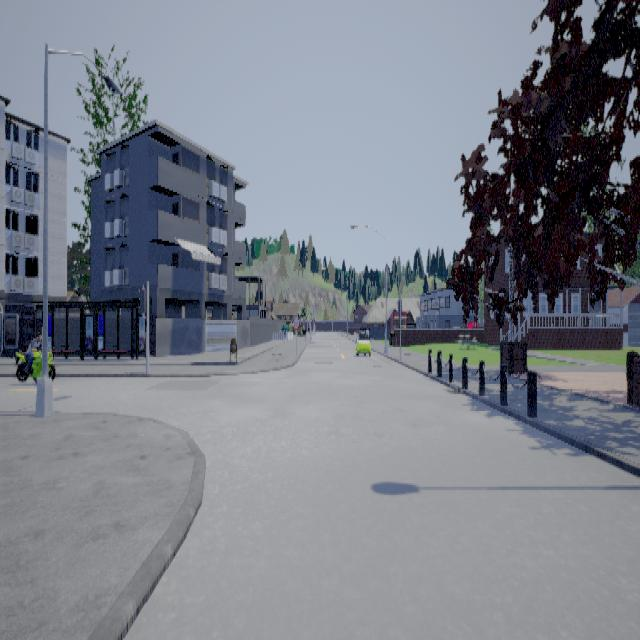motobike: (15, 335, 56, 381)
vehicle: (358, 326, 373, 354)
